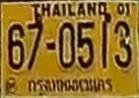0: (59, 22, 74, 68)
1: (102, 21, 108, 68)
3: (113, 20, 131, 67)
5: (77, 22, 94, 68)
6: (7, 23, 24, 68)
7: (28, 23, 44, 70)
BKK: (26, 76, 115, 97)
